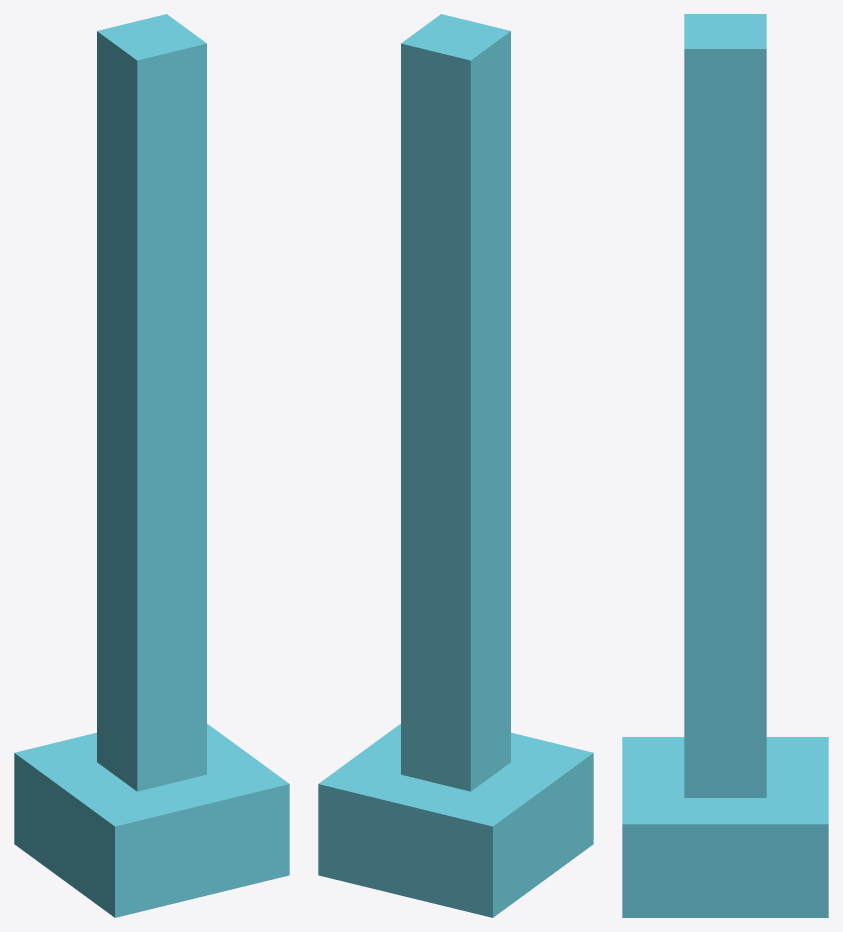
File: gauge.gltf
3 renders of one model, left to right at view 1: azimuth 30°, elevation 25°; view 2: azimuth 150°, elevation 25°; view 3: azimuth 270°, elevation 25°, orthographic. The views are drawn at different scales.
Size of the model in its own units: 4 by 18 by 4.
